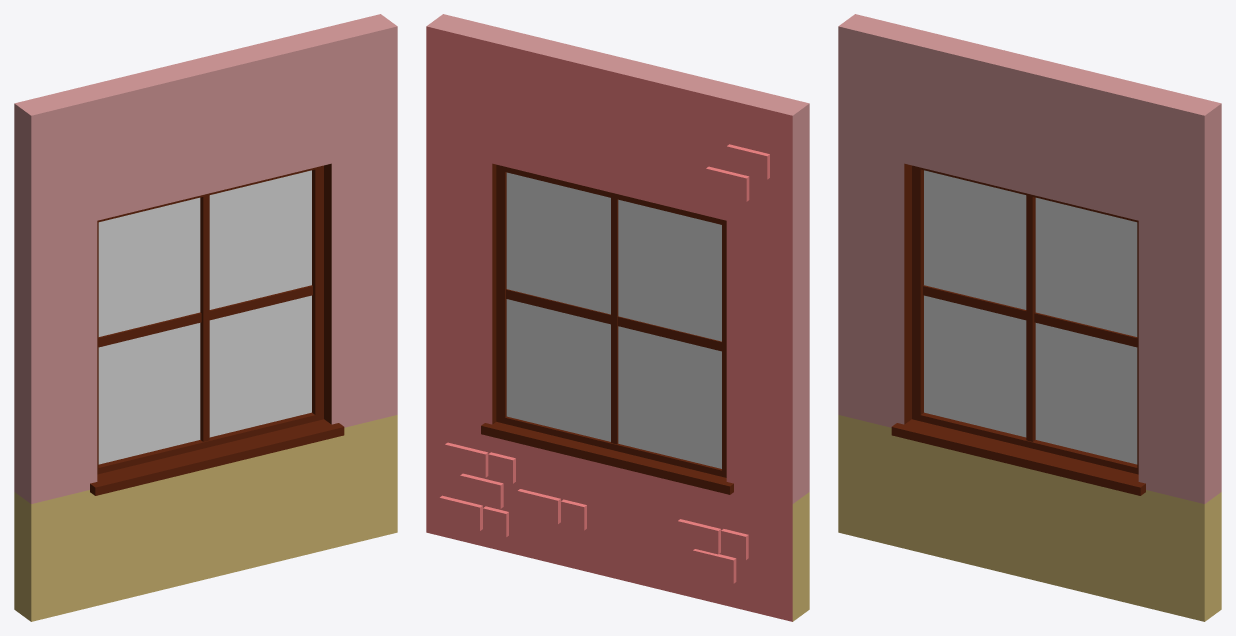
The model's file is window6.fbx.
3 renders of one model, left to right at view 1: azimuth 30°, elevation 25°; view 2: azimuth 150°, elevation 25°; view 3: azimuth 330°, elevation 25°, orthographic.
Visible parts, largest first — view 1: wall_window4.002, glass6.001; view 2: wall_window4.002, glass6.001; view 3: wall_window4.002, glass6.001.
Boxes of the visible parts, x1,y1,x2,y2 form: wall_window4.002: (14,14,397,621); glass6.001: (98,170,311,464); wall_window4.002: (426,14,809,621); glass6.001: (506,172,721,468); wall_window4.002: (838,14,1221,621); glass6.001: (924,170,1137,464).
Bounding box in the file's own units: 211 × 279 × 26.33.
